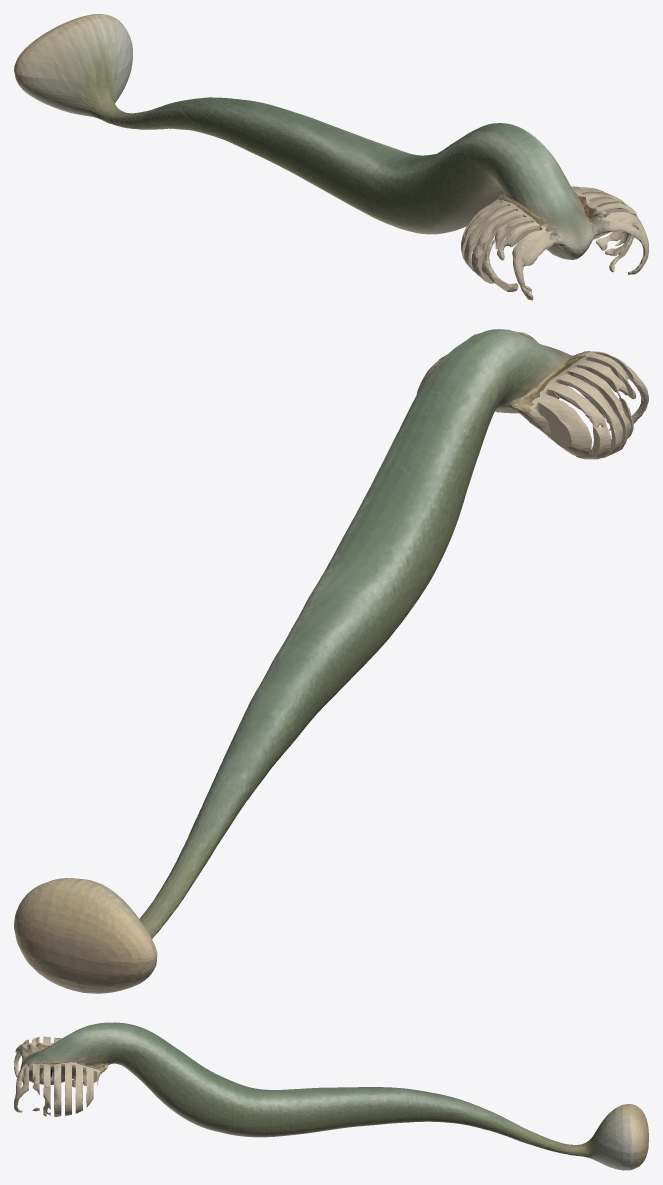
The picture shows the model from 3 angles, top to bottom: view 1: azimuth 30°, elevation 25°; view 2: azimuth 150°, elevation 25°; view 3: azimuth 270°, elevation 25°; orthographic projection. The views are drawn at different scales.
Visible parts, largest first — view 1: world; view 2: world; view 3: world.
Part boxes in pixels (x1,y1,x2,y2): world: [14, 14, 648, 300]; world: [14, 329, 648, 993]; world: [14, 1022, 648, 1170].
Size of the model in its own units: 0.2449 by 0.2796 by 1.
Materials: 2 (1 with a texture image).
